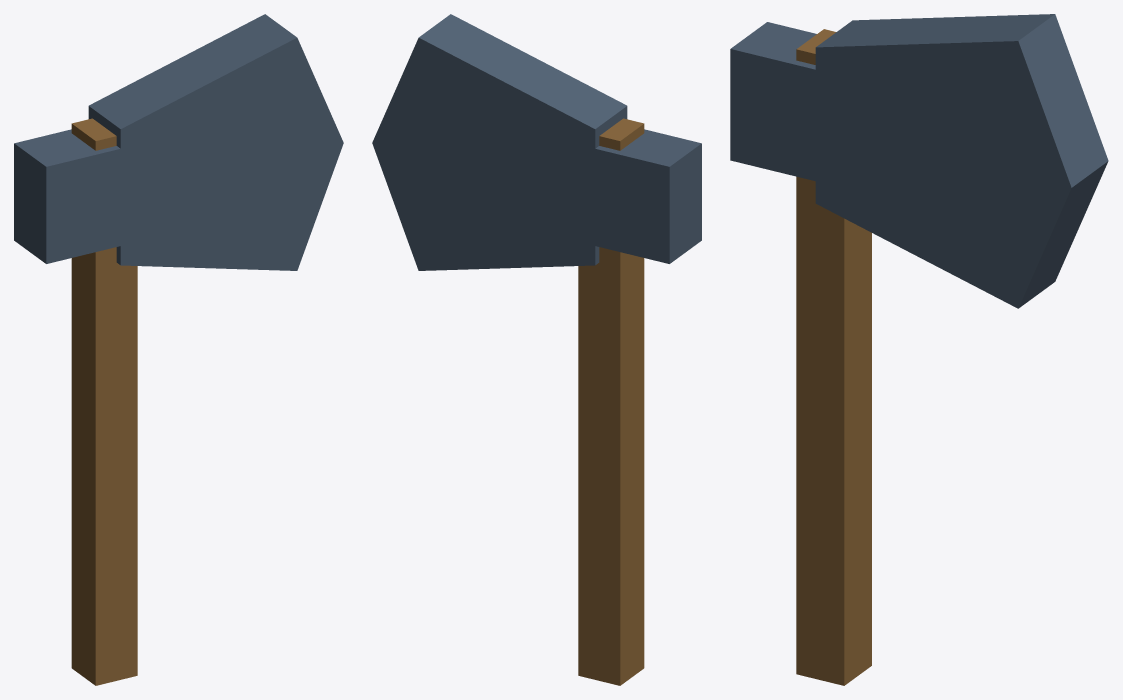
File: axe_steel.fbx
3 renders of one model, left to right at view 1: azimuth 30°, elevation 25°; view 2: azimuth 150°, elevation 25°; view 3: azimuth 330°, elevation 25°, orthographic. The views are drawn at different scales.
Visible parts, largest first — view 1: axe_steel; view 2: axe_steel; view 3: axe_steel.
Boxes of the visible parts, left/top/right/bottom form: axe_steel: left=14, top=14, right=343, bottom=685; axe_steel: left=372, top=14, right=701, bottom=685; axe_steel: left=730, top=14, right=1108, bottom=685.
Bounding box in the file's own units: 0.96 × 1.86 × 0.18.
